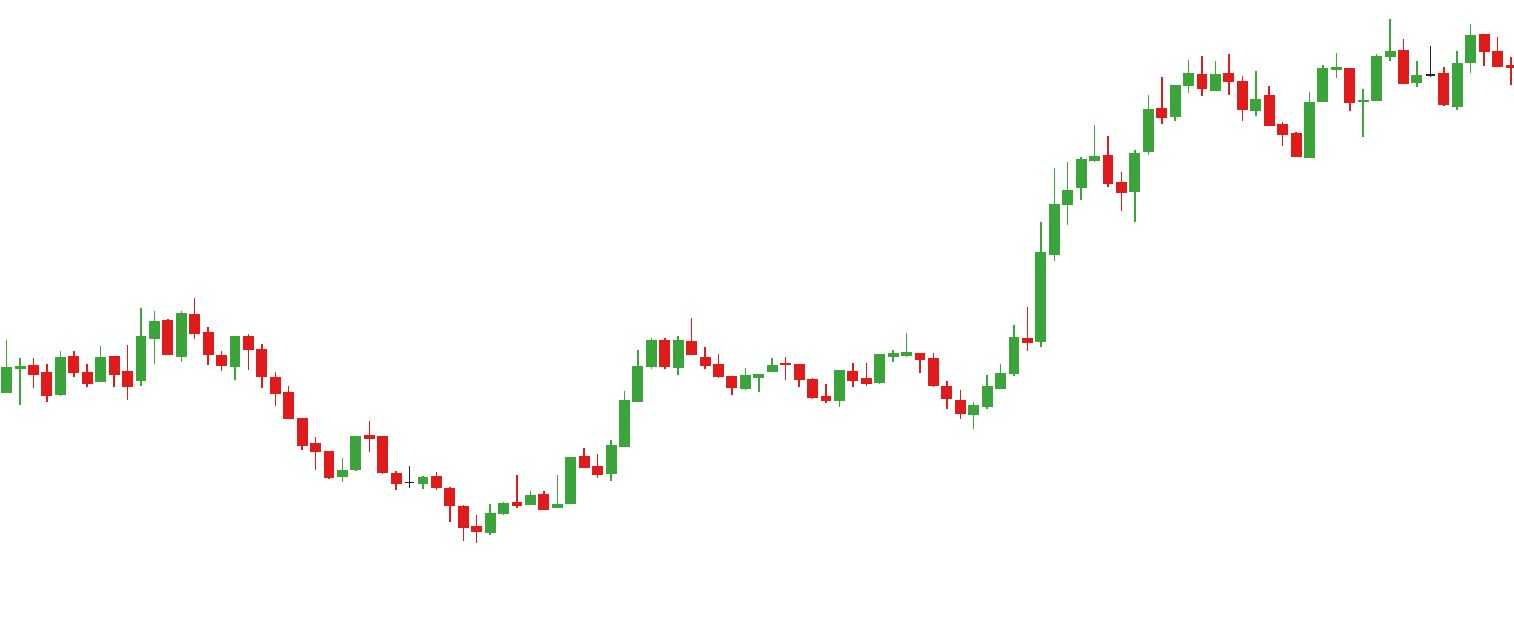buy: (819, 369, 993, 426)
